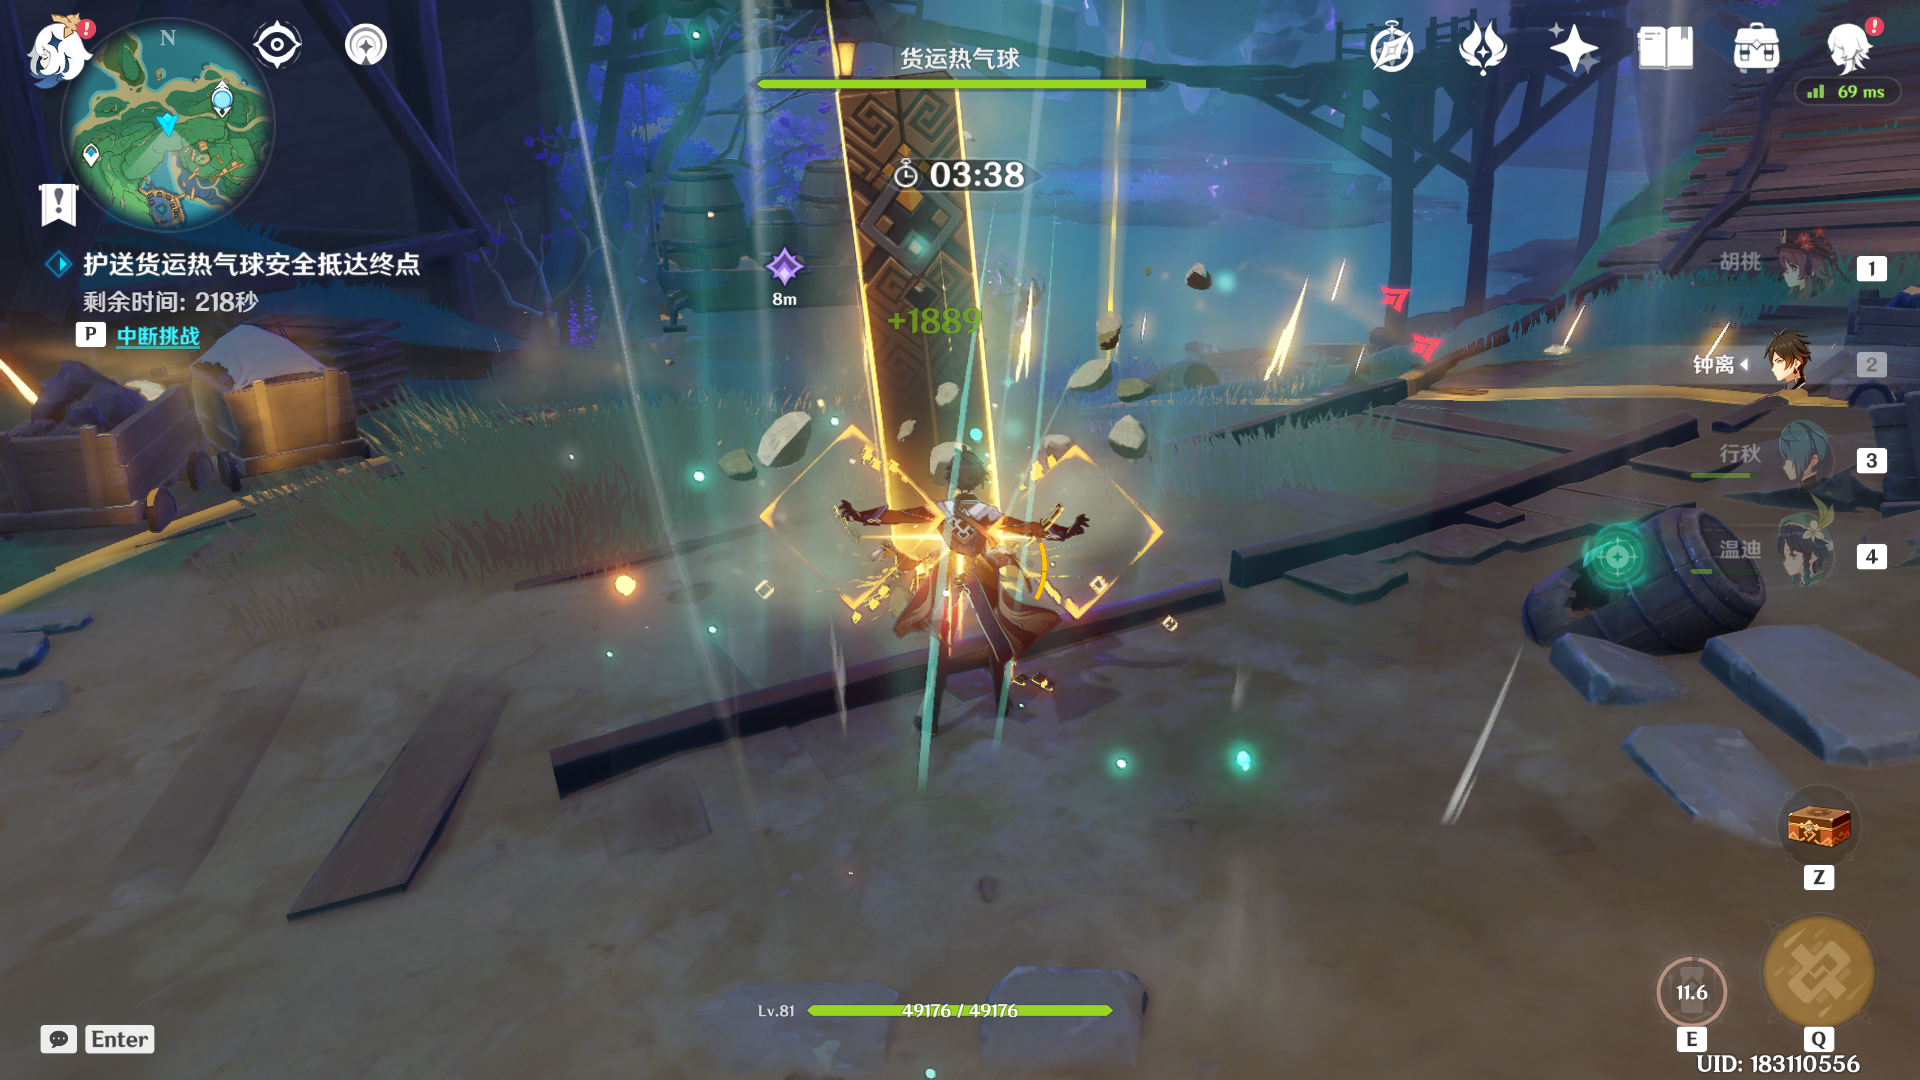character: (829, 394, 1122, 773)
